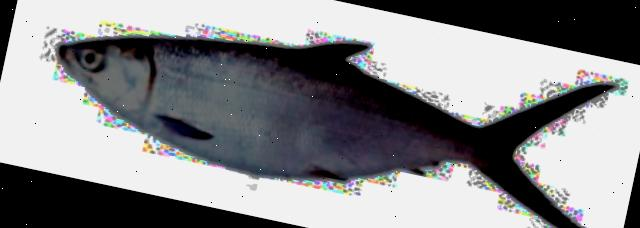Healthy Fish: (58, 37, 607, 228)
